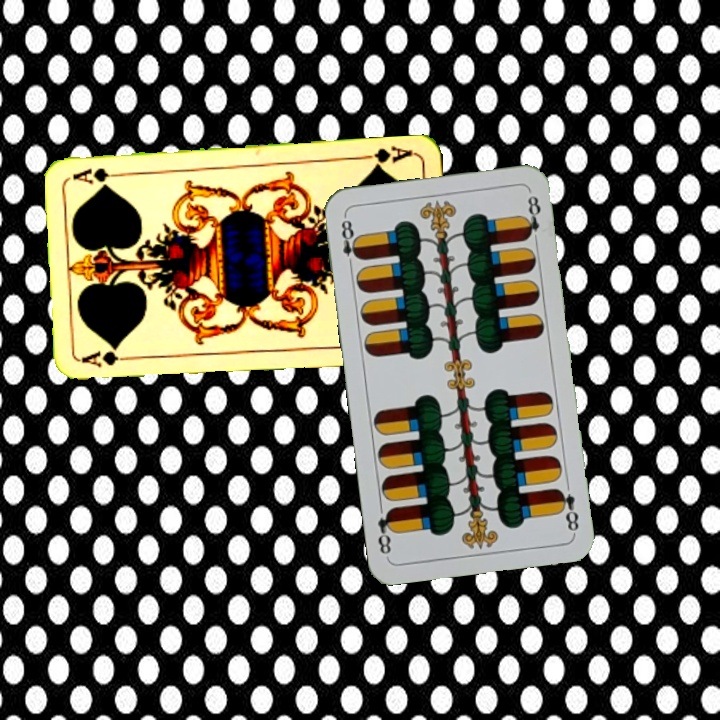E8: (337, 212, 363, 272), (553, 484, 582, 535)
GA: (357, 143, 416, 171), (78, 345, 137, 370)
